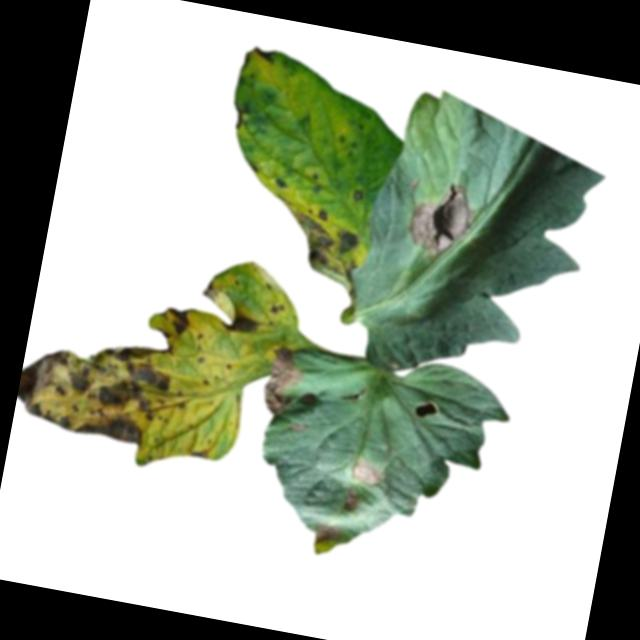Early_blight: (13, 322, 176, 448), (278, 199, 368, 285), (401, 174, 478, 268), (258, 342, 305, 420), (219, 307, 263, 337), (349, 457, 385, 489), (161, 304, 195, 336), (312, 518, 343, 548), (341, 490, 362, 515), (265, 296, 289, 315), (349, 182, 368, 205), (253, 44, 276, 61), (271, 171, 290, 190), (188, 446, 210, 460)
